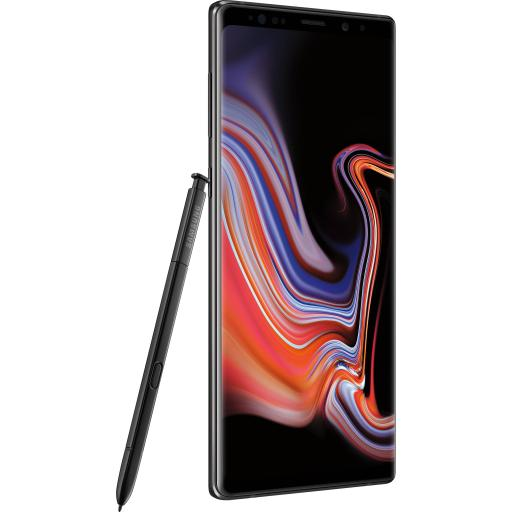phone: (205, 2, 399, 496)
